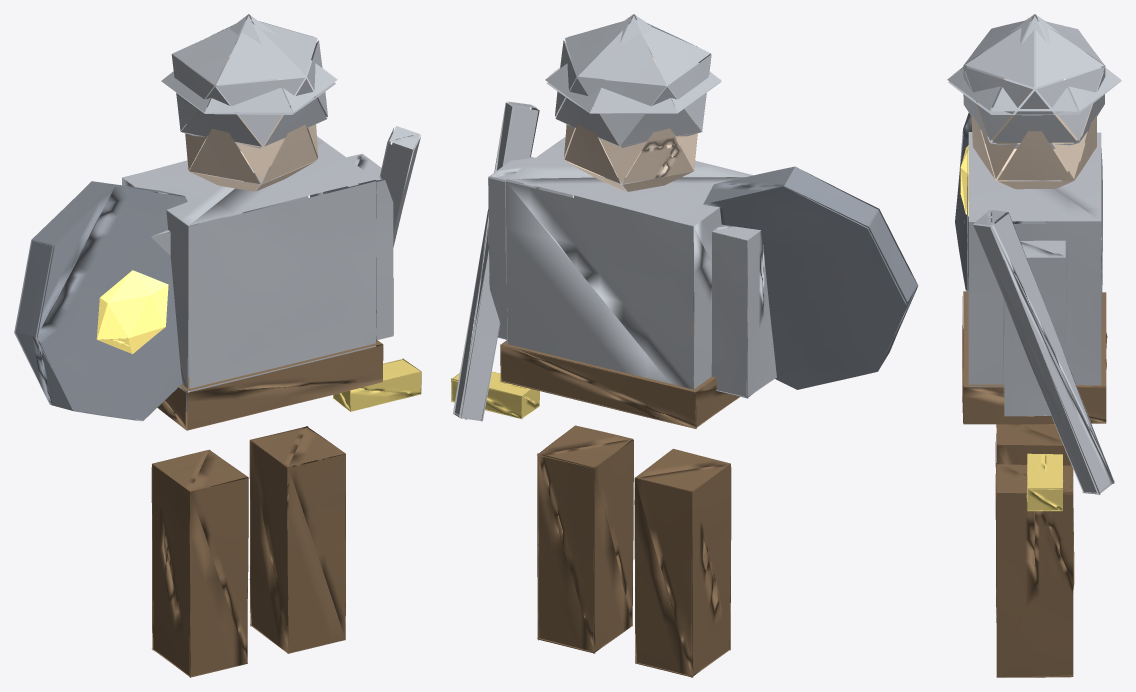
The model's file is knight.glb.
The picture shows the model from 3 angles, left to right: view 1: azimuth 30°, elevation 25°; view 2: azimuth 150°, elevation 25°; view 3: azimuth 270°, elevation 25°; orthographic projection.
Parts seen in each view (by area): view 1: SettlerLegL; view 2: SettlerLegL; view 3: SettlerLegL.
Boxes of the visible parts, x1,y1,x2,y2 form: SettlerLegL: (14,14,421,677); SettlerLegL: (451,14,918,677); SettlerLegL: (947,14,1121,677).
Bounding box in the file's own units: 0.9527 × 1.36 × 0.3427.
